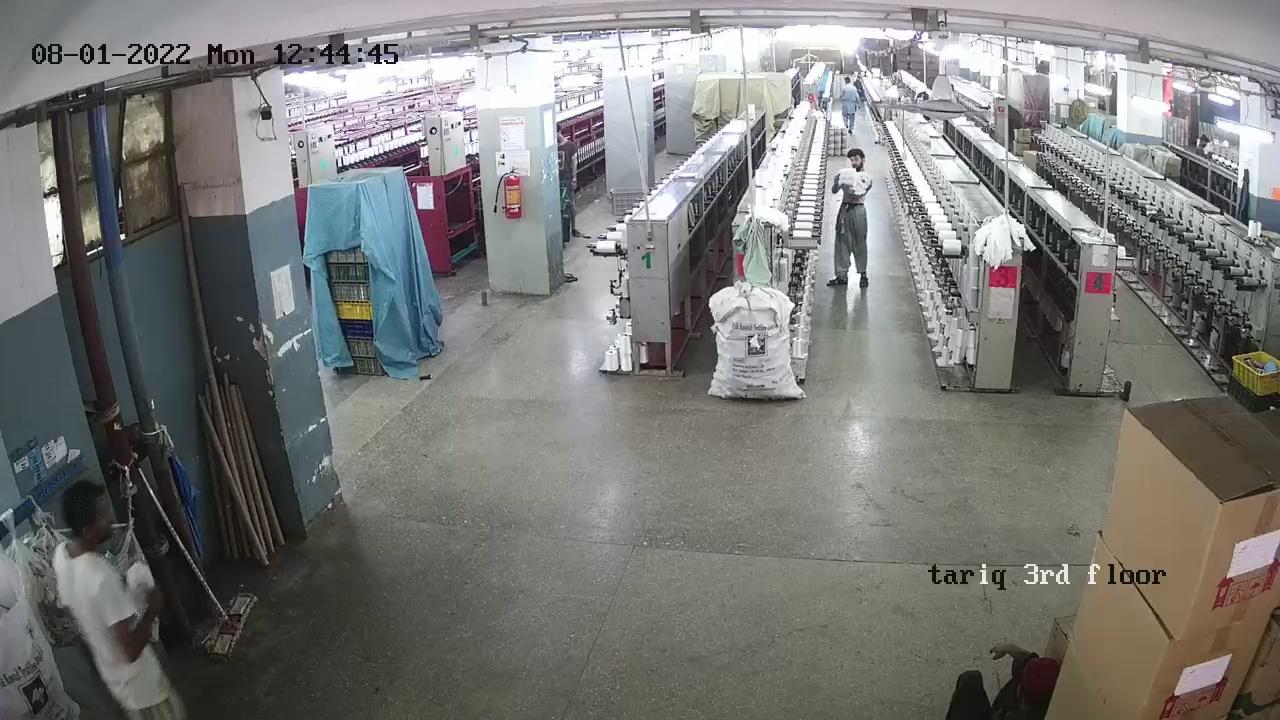person: (59, 485, 190, 715), (954, 650, 1062, 720), (834, 148, 869, 283), (841, 77, 859, 125)
